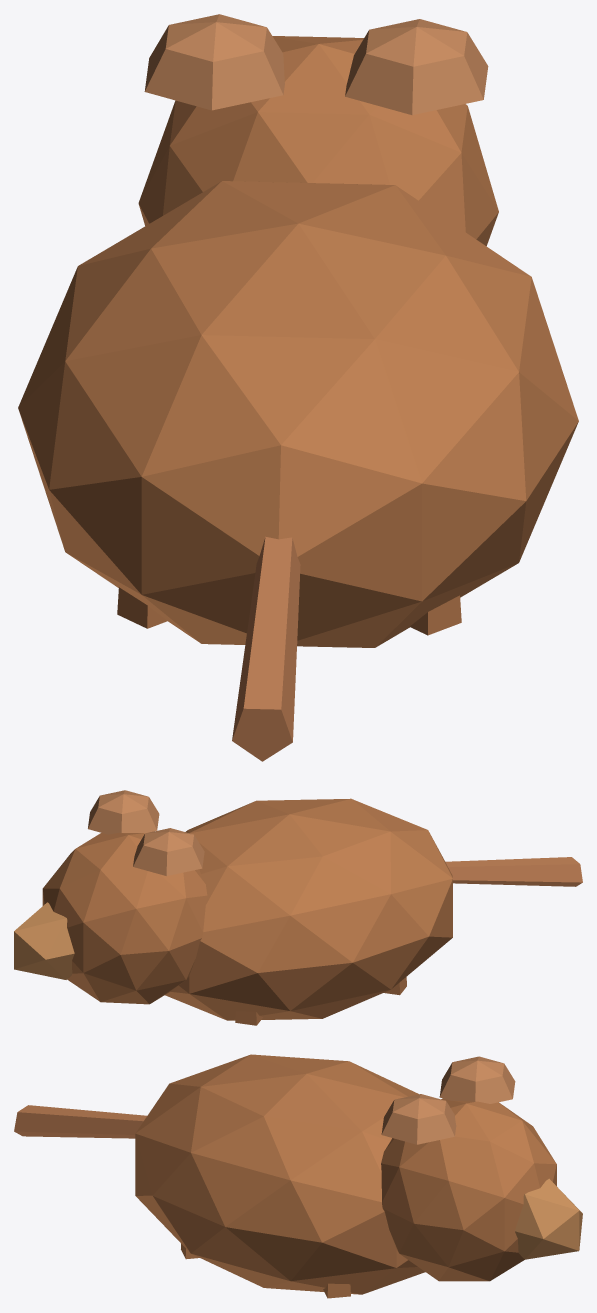
File: rat_fire_v2.glb
3 renders of one model, top to bottom at view 1: azimuth 30°, elevation 25°; view 2: azimuth 150°, elevation 25°; view 3: azimuth 270°, elevation 25°, orthographic. The views are drawn at different scales.
Visible parts, largest first — view 1: world; view 2: world; view 3: world.
Part boxes in pixels (<box>): world: <box>18,14,578,761</box>; world: <box>14,790,582,1025</box>; world: <box>14,1054,582,1298</box>.
Size of the model in its own units: 0.7015 by 0.4564 by 1.
